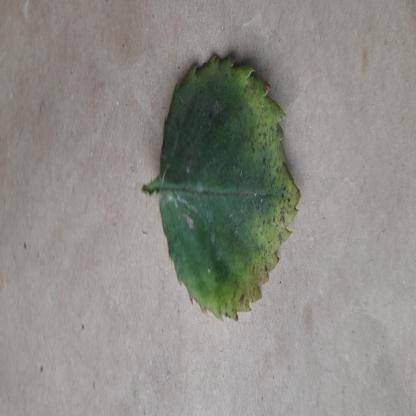black-spot: (158, 56, 302, 318)
